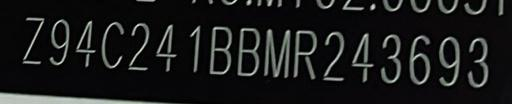letter: (262, 28, 292, 78), (348, 32, 376, 84), (321, 30, 347, 82), (292, 30, 318, 80), (408, 35, 432, 87), (75, 20, 99, 70), (209, 25, 233, 75), (237, 27, 261, 77), (380, 33, 402, 85), (468, 37, 490, 89), (102, 21, 124, 71), (154, 22, 176, 72), (438, 36, 460, 86), (48, 18, 70, 66), (185, 23, 205, 74), (129, 22, 149, 72), (24, 16, 44, 64)
